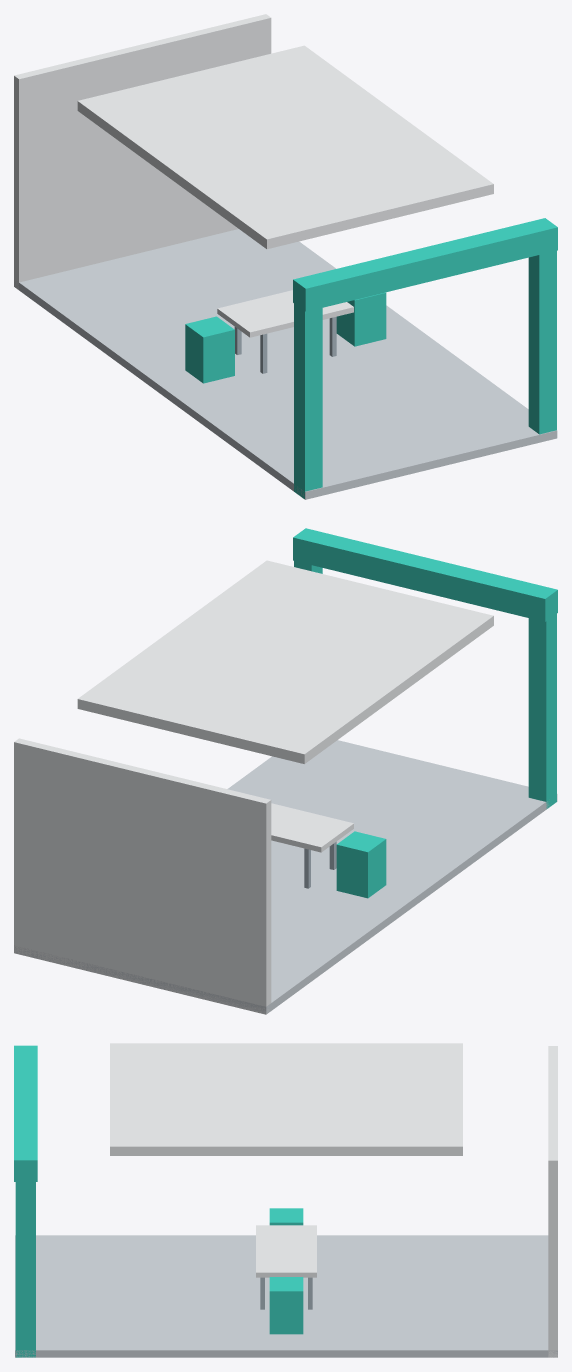
The picture shows the model from 3 angles, top to bottom: view 1: azimuth 30°, elevation 25°; view 2: azimuth 150°, elevation 25°; view 3: azimuth 270°, elevation 25°; orthographic projection. The views are drawn at different scales.
Parts seen in each view (by area): view 1: Exhibition Booth Concept; view 2: Exhibition Booth Concept; view 3: Exhibition Booth Concept.
Part boxes in pixels (x1,y1,x2,y2): Exhibition Booth Concept: (14, 14, 557, 499); Exhibition Booth Concept: (14, 528, 557, 1014); Exhibition Booth Concept: (14, 1043, 557, 1357).
Bounding box in the file's own units: 4 × 3.34 × 8.01.
